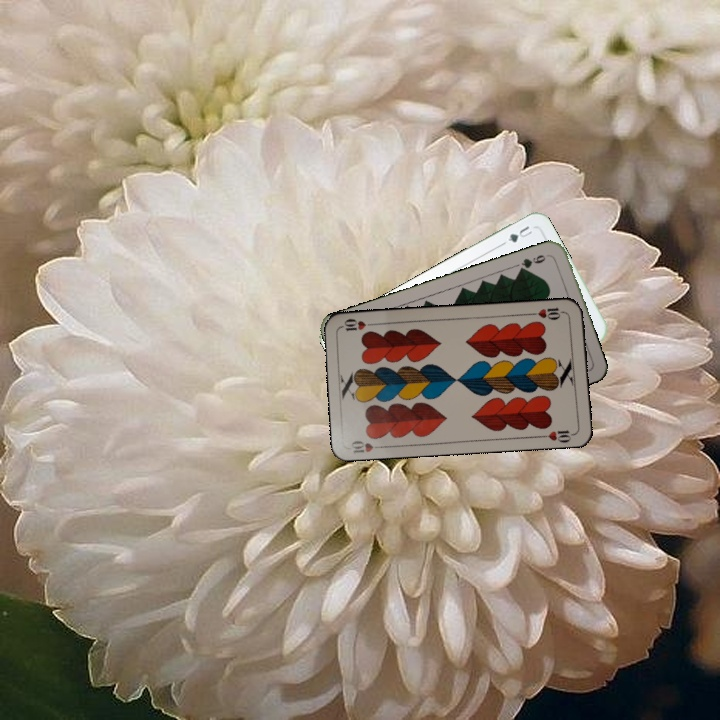G9: (515, 250, 553, 275)
GU: (504, 222, 535, 245)
H10: (347, 436, 387, 455), (527, 304, 568, 322)
